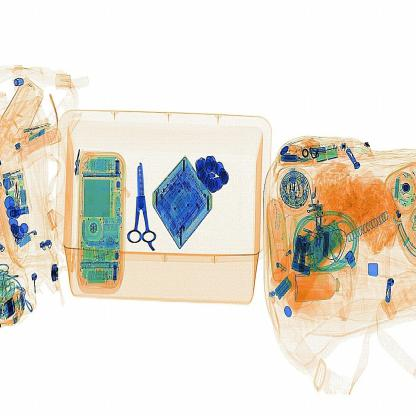gun: (125, 157, 159, 259)
